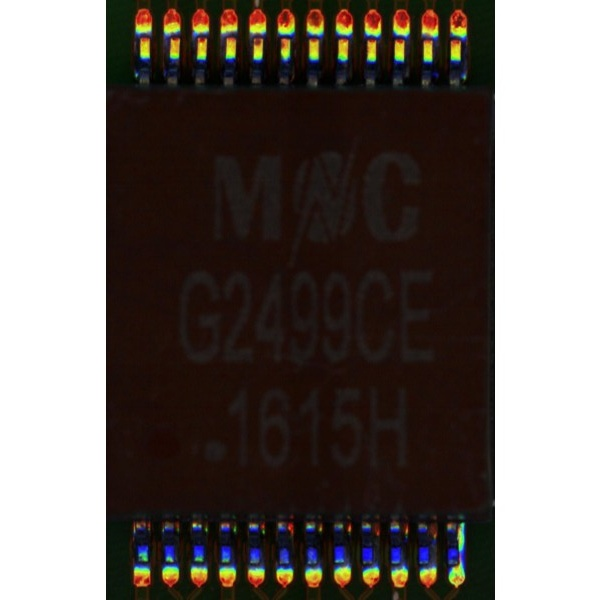Bad_qiaojiao: (456, 524, 466, 569)
